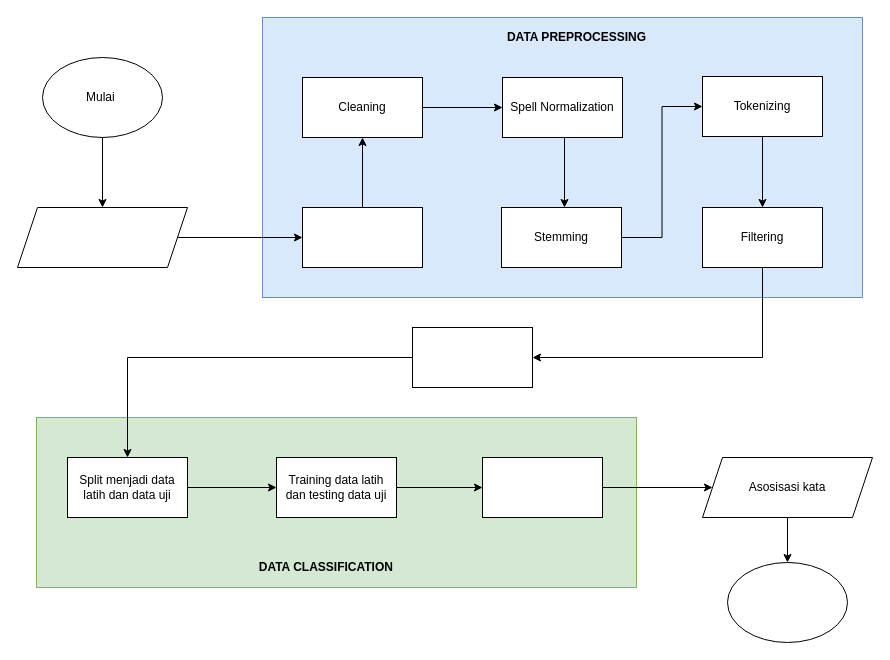
Image size: 890x660. Some labels were removed from this diagram. The centre of each missing label's shape, as x and y in pixels:
Case Folding: the point at 362,237
Data Ulasan Pengguna MyTelkomsel.csv: the point at 102,237
Evaluasi hasil klasifikasi Random Forest: the point at 542,487
Pembobotan Kata: the point at 472,357
Selesai: the point at 787,602
